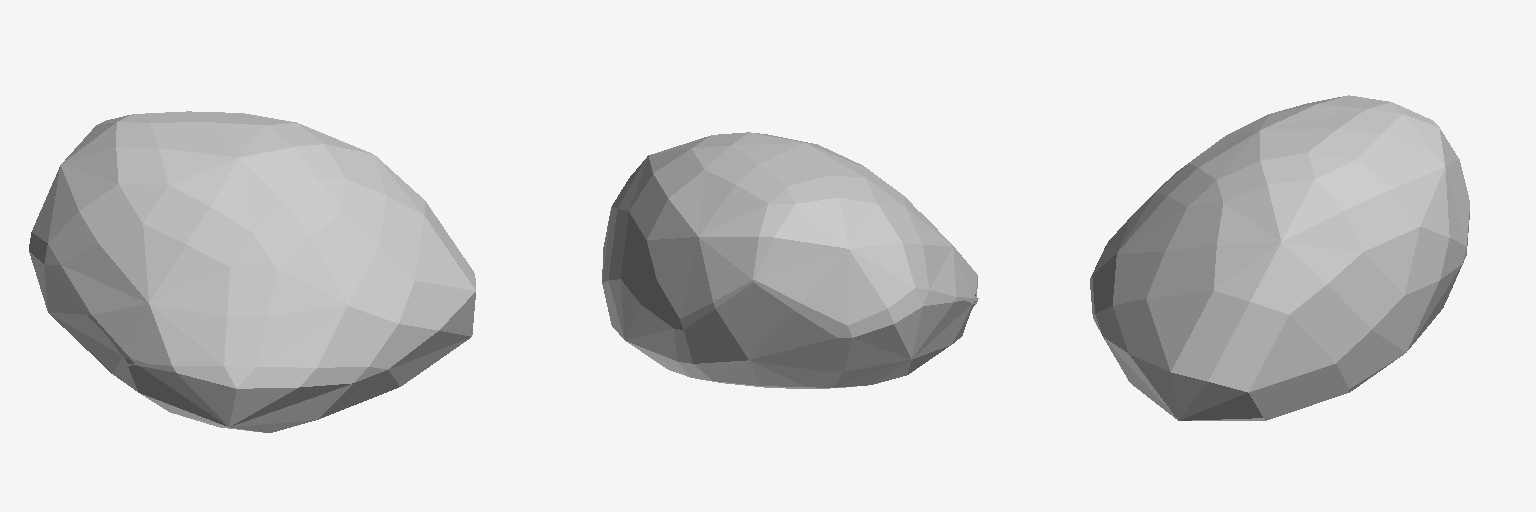
Rendered from Rock1.obj.
3 views of the same model, side by side, from view 1: azimuth 30°, elevation 25°; view 2: azimuth 150°, elevation 25°; view 3: azimuth 270°, elevation 25° (orthographic).
Visible parts, largest first — view 1: Rock1; view 2: Rock1; view 3: Rock1.
Boxes of the visible parts, <box> form: Rock1: <box>29,111,475,432</box>; Rock1: <box>602,132,978,388</box>; Rock1: <box>1090,95,1469,420</box>.
Bounding box in the file's own units: 2.01 × 1.23 × 1.81.